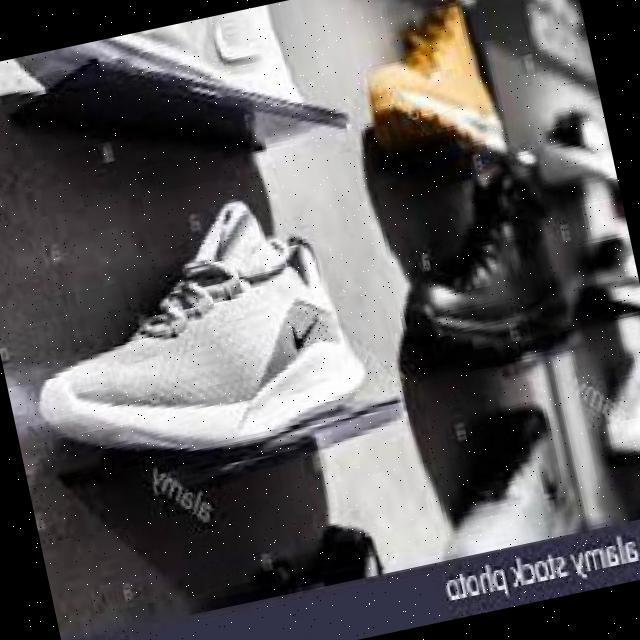Nike: (286, 305, 330, 349)
